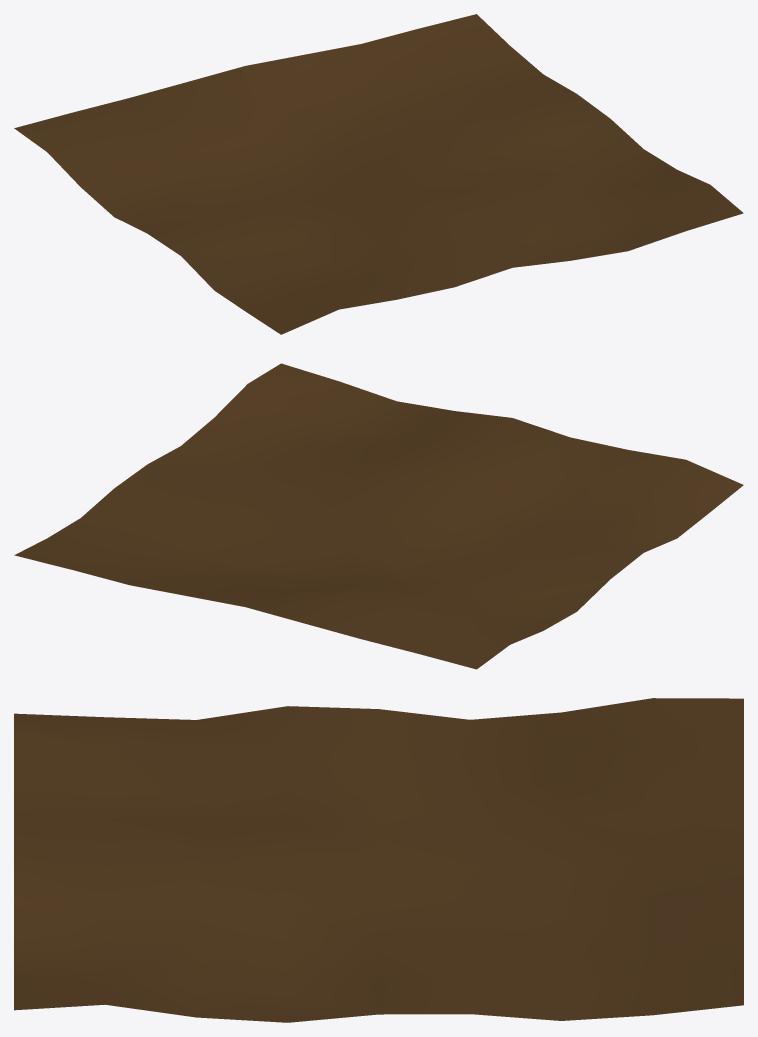
Rendered from floor.glb.
The picture shows the model from 3 angles, top to bottom: view 1: azimuth 30°, elevation 25°; view 2: azimuth 150°, elevation 25°; view 3: azimuth 270°, elevation 25°; orthographic projection. The views are drawn at different scales.
Parts seen in each view (by area): view 1: floor; view 2: floor; view 3: floor.
Part boxes in pixels (x1,y1,x2,y2): floor: [14, 14, 743, 334]; floor: [14, 363, 743, 669]; floor: [14, 698, 743, 1022].
Bounding box in the file's own units: 30.48 × 1.62 × 30.48.
